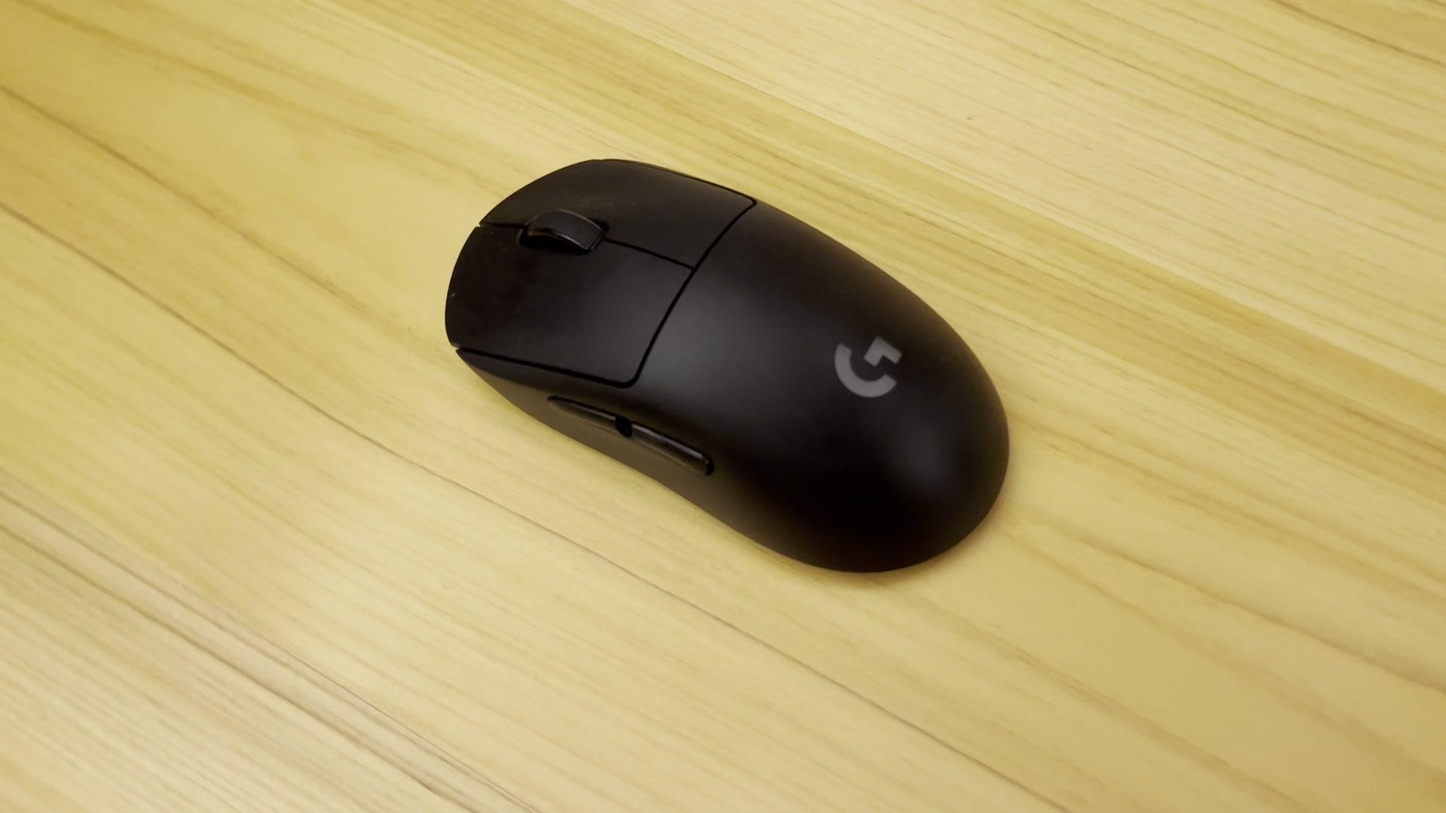mouse: (434, 148, 1020, 582)
